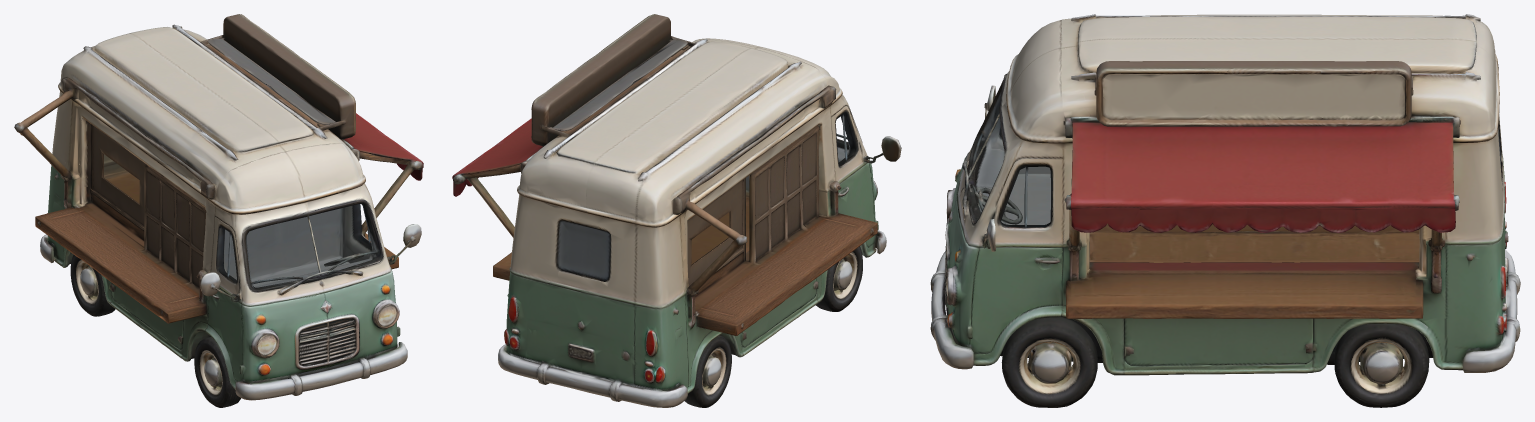
File: level-1-web.glb
3 views of the same model, side by side, from view 1: azimuth 30°, elevation 25°; view 2: azimuth 150°, elevation 25°; view 3: azimuth 270°, elevation 25° (orthographic). The views are drawn at different scales.
Parts seen in each view (by area): view 1: tripo_node_5dda1828-d0d5-4a59-a8a1-c40606a564f0; view 2: tripo_node_5dda1828-d0d5-4a59-a8a1-c40606a564f0; view 3: tripo_node_5dda1828-d0d5-4a59-a8a1-c40606a564f0.
Boxes of the visible parts, x1=… form: tripo_node_5dda1828-d0d5-4a59-a8a1-c40606a564f0: x1=14, y1=14, x2=423, y2=407; tripo_node_5dda1828-d0d5-4a59-a8a1-c40606a564f0: x1=452, y1=14, x2=901, y2=407; tripo_node_5dda1828-d0d5-4a59-a8a1-c40606a564f0: x1=930, y1=14, x2=1520, y2=407.
Size of the model in its own units: 0.6954 by 0.6258 by 0.9773.
Materials: 1 (1 with a texture image).
